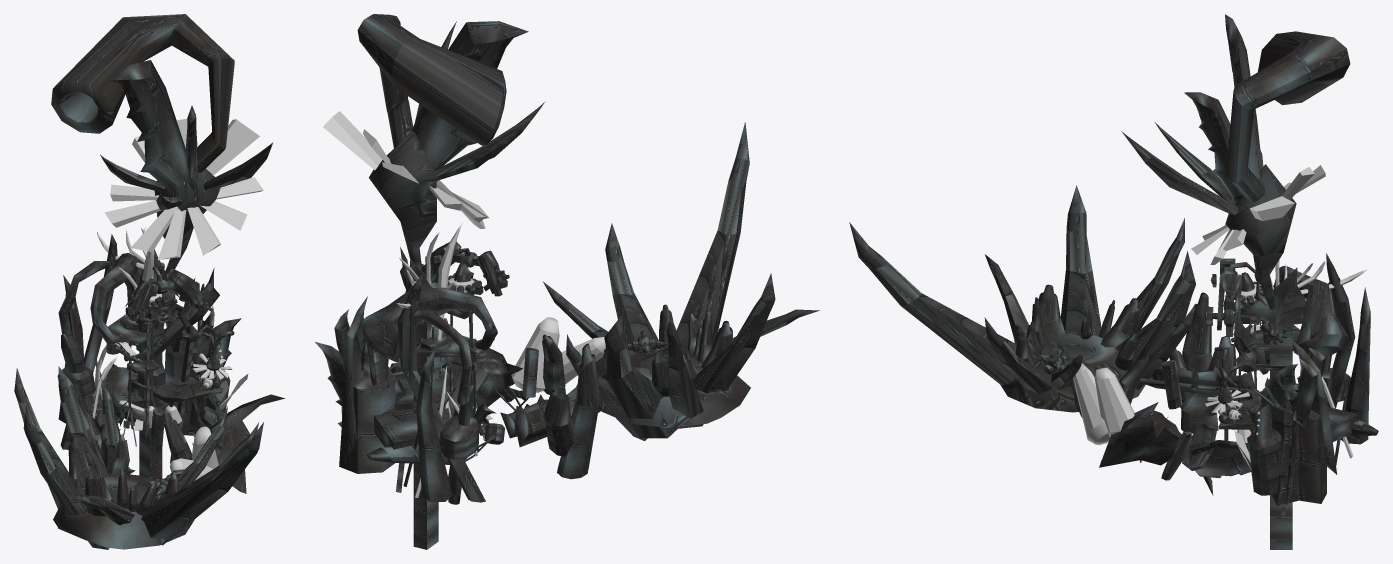
File: LevelCombinedFBX.fbx
3 views of the same model, side by side, from view 1: azimuth 30°, elevation 25°; view 2: azimuth 150°, elevation 25°; view 3: azimuth 270°, elevation 25° (orthographic). The views are drawn at different scales.
Parts seen in each view (by area): view 1: TowerPillarMain3, StartPlatform_Spikes, TowerPillarL1, TowerPillarR1, WallR, StartPlatform_Base, Tower_PipesUpper, Lift_MachineCogholder, pCube3, Railings_Lift1, WallL, pCube18 (+6 smaller); view 2: TowerPillarMain3, StartPlatform_Spikes, TowerPillarL1, TowerPillarR1, WallL, WallR, Tower_PipesUpper, StartPlatform_Base, Lift_MachineCogholder, pCube18, pCube3, Pillar (+1 smaller); view 3: TowerPillarMain3, StartPlatform_Spikes, TowerPillarR1, WallR, WallL, TowerPillarL1, StartPlatform_Base, Tower_PipesUpper, Lift_MachineCogholder, Pillar, pCube18.
Boxes of the visible parts, x1,y1,x2,y2 form: TowerPillarMain3: (51,14,273,480); StartPlatform_Spikes: (14,366,263,549); TowerPillarL1: (57,234,118,449); TowerPillarR1: (164,278,248,462); WallR: (164,394,285,493); StartPlatform_Base: (53,469,194,549); Tower_PipesUpper: (90,253,174,363); Lift_MachineCogholder: (125,262,206,328); pCube3: (128,373,223,402); Railings_Lift1: (115,323,156,446); WallL: (73,383,135,474); pCube18: (105,366,169,409); TowerPillarMain3: (323,14,545,549); StartPlatform_Spikes: (543,122,819,440); TowerPillarL1: (366,274,496,504); TowerPillarR1: (315,296,448,492); WallL: (473,343,604,479); WallR: (395,317,605,407); Tower_PipesUpper: (361,287,497,363); StartPlatform_Base: (595,347,750,427); Lift_MachineCogholder: (422,241,503,319); pCube18: (374,407,449,449); pCube3: (394,373,456,410); Pillar: (522,348,538,397); TowerPillarMain3: (1121,14,1366,549); StartPlatform_Spikes: (849,185,1195,394); TowerPillarR1: (1224,339,1337,515); WallR: (1073,355,1251,495); WallL: (1139,292,1268,433); TowerPillarL1: (1300,253,1378,465); StartPlatform_Base: (1000,333,1145,417); Tower_PipesUpper: (1231,266,1348,357); Lift_MachineCogholder: (1213,258,1267,330); Pillar: (1162,360,1182,409); pCube18: (1328,407,1358,441).
Bounding box in the file's own units: 12641 × 18216 × 17061.
